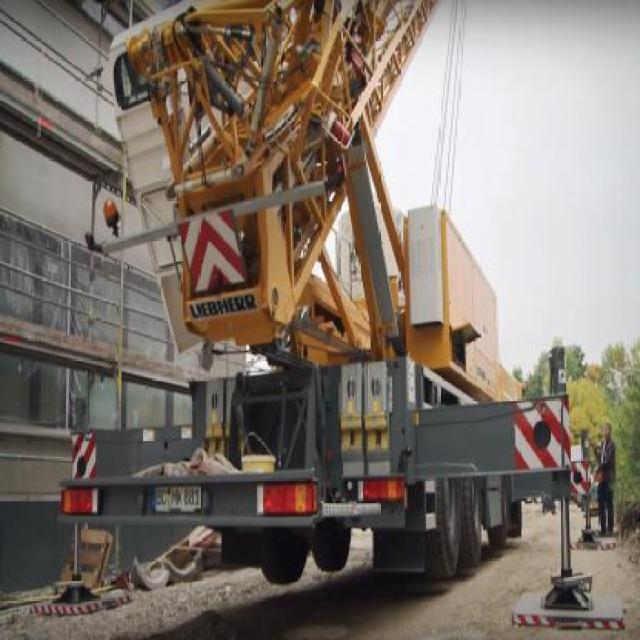Mobile Crane: (52, 0, 594, 606)
